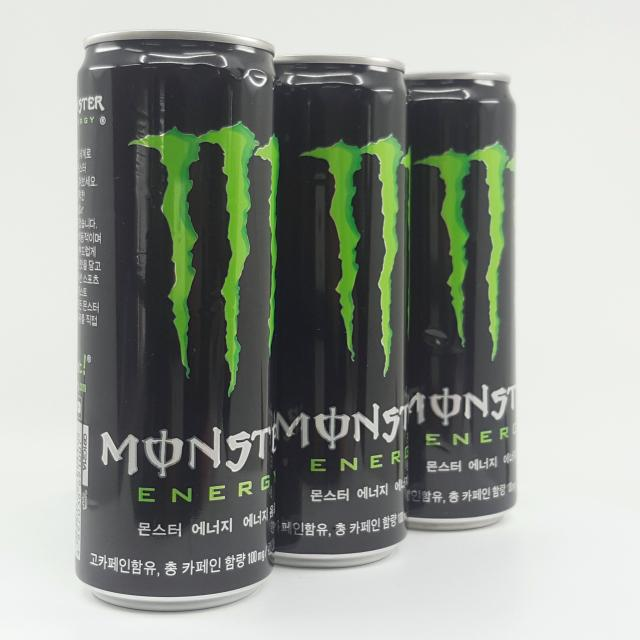--------355ML: (76, 29, 280, 612), (238, 54, 410, 567), (364, 70, 517, 530)
